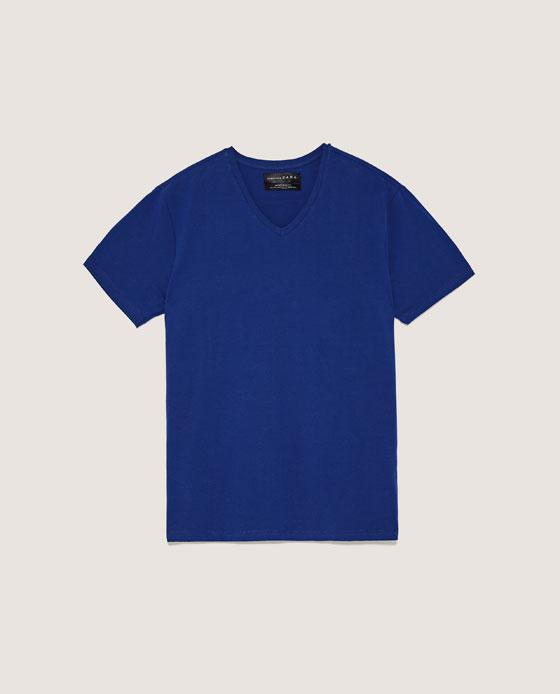teeshirt: (54, 139, 499, 567)
